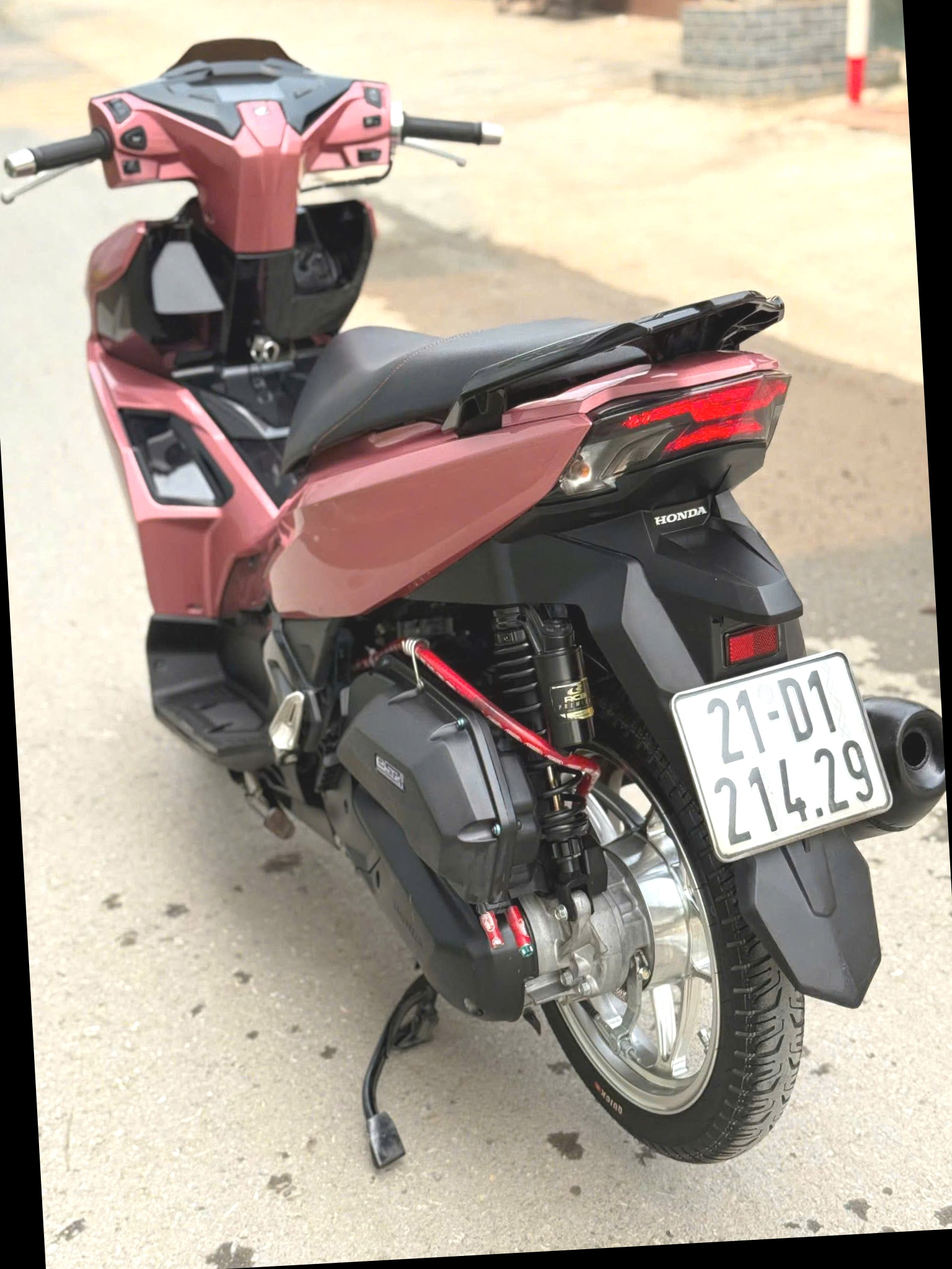Bien-so: (661, 717, 900, 932)
